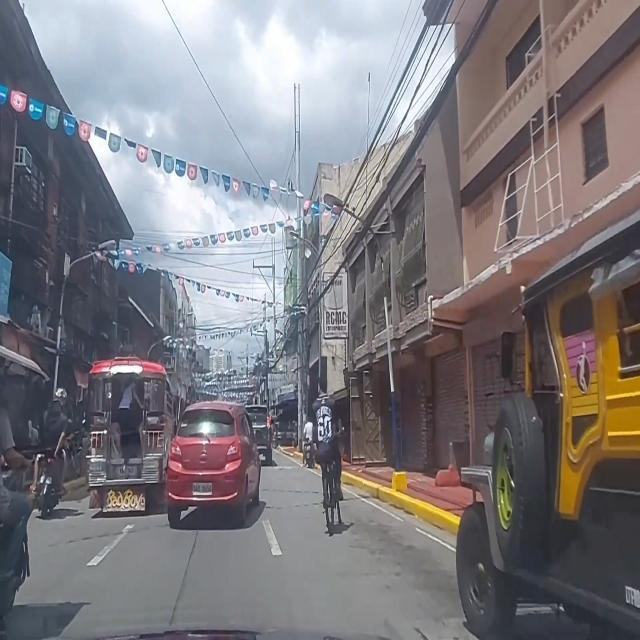bike: (314, 373, 344, 538)
car: (168, 398, 262, 520), (244, 404, 274, 464)
jeepney: (456, 210, 640, 636), (85, 354, 176, 514)
motorcycle: (0, 476, 33, 630), (30, 440, 64, 518), (302, 416, 316, 469)
